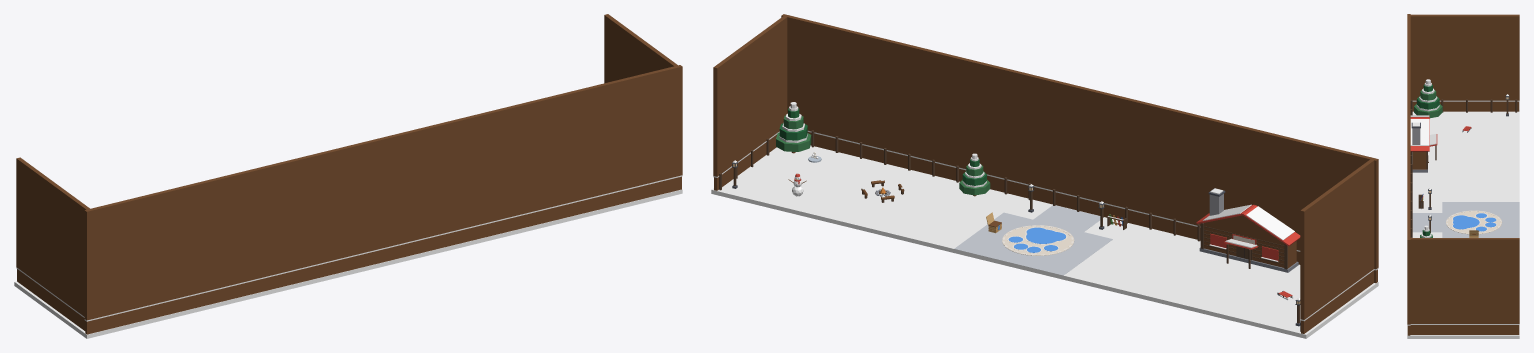
File: CatCafe_Camp_Snowy.glb
3 views of the same model, side by side, from view 1: azimuth 30°, elevation 25°; view 2: azimuth 150°, elevation 25°; view 3: azimuth 270°, elevation 25° (orthographic). The views are drawn at different scales.
Parts seen in each view (by area): view 1: CatCafe_Camp_Snowy_Barrier, CatCafe_Camp_Snowy; view 2: CatCafe_Camp_Snowy_Barrier, CatCafe_Camp_Snowy, CatCafe_Camp_Snowy_001_LodgeFront, CatCafe_Camp_Snowy_013_Pine, CatCafe_Camp_Snowy_014_Pine; view 3: CatCafe_Camp_Snowy_Barrier, CatCafe_Camp_Snowy, CatCafe_Camp_Snowy_001_LodgeFront, CatCafe_Camp_Snowy_010_Pine, CatCafe_Camp_Snowy_014_Pine.
Part boxes in pixels (x1,y1,x2,y2): CatCafe_Camp_Snowy_Barrier: [16, 14, 682, 320]; CatCafe_Camp_Snowy: [14, 175, 682, 338]; CatCafe_Camp_Snowy_Barrier: [713, 14, 1378, 319]; CatCafe_Camp_Snowy: [711, 130, 1378, 338]; CatCafe_Camp_Snowy_001_LodgeFront: [1196, 188, 1300, 272]; CatCafe_Camp_Snowy_013_Pine: [776, 102, 811, 153]; CatCafe_Camp_Snowy_014_Pine: [959, 153, 990, 196]; CatCafe_Camp_Snowy_Barrier: [1407, 14, 1519, 324]; CatCafe_Camp_Snowy: [1407, 99, 1519, 338]; CatCafe_Camp_Snowy_001_LodgeFront: [1410, 115, 1437, 172]; CatCafe_Camp_Snowy_010_Pine: [1414, 79, 1442, 118]; CatCafe_Camp_Snowy_014_Pine: [1420, 225, 1432, 237].
Bounding box in the file's own units: 152 × 31 × 32.
1 material, 1 textured.
